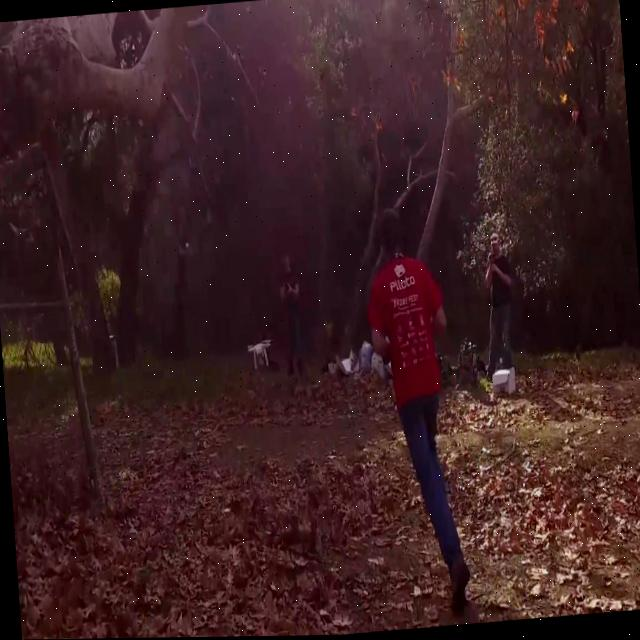drone: (244, 336, 274, 370)
